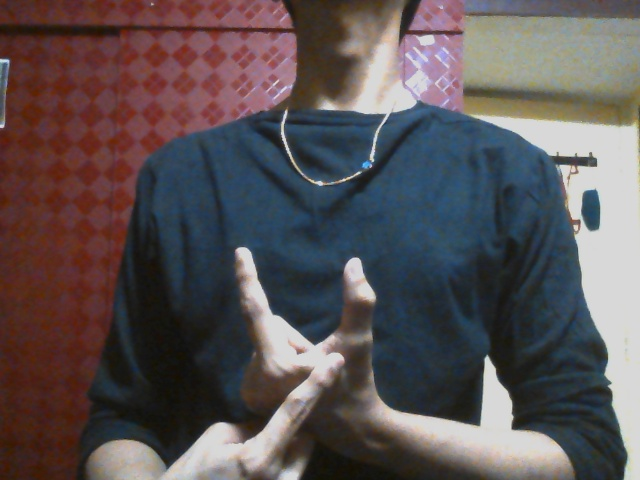Y: (193, 246, 379, 480)
